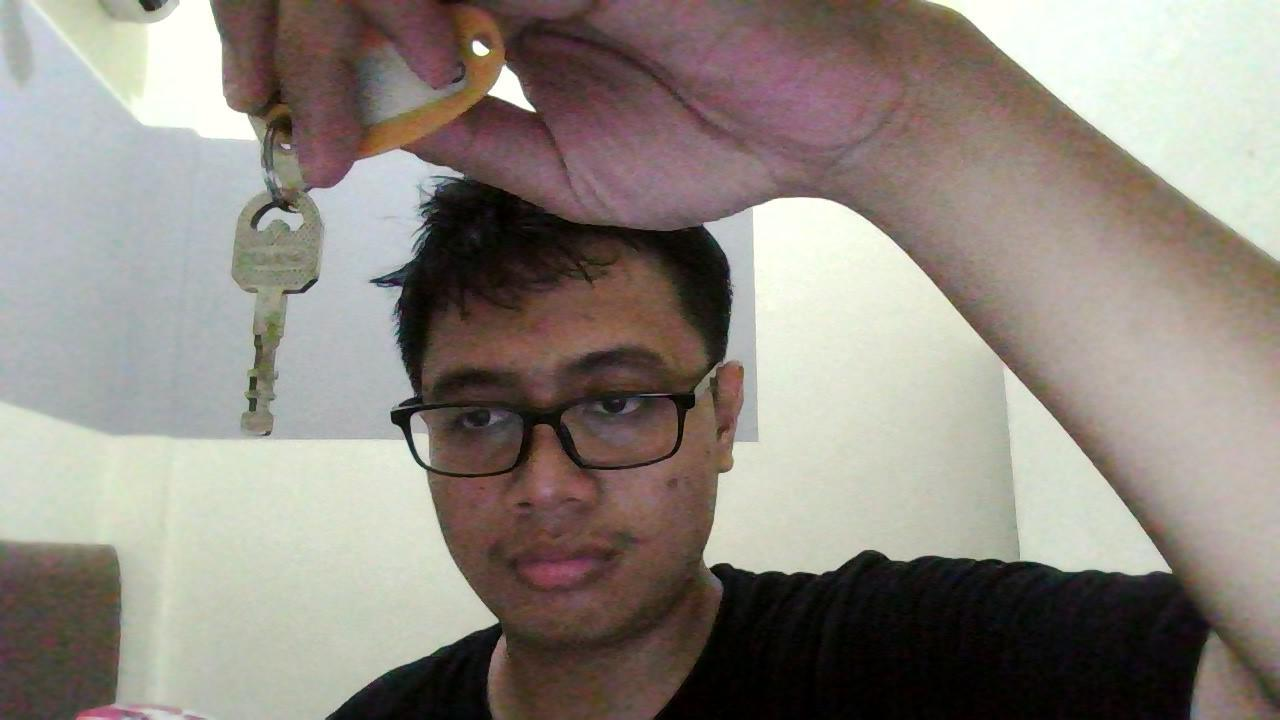keys: (206, 182, 337, 449)
